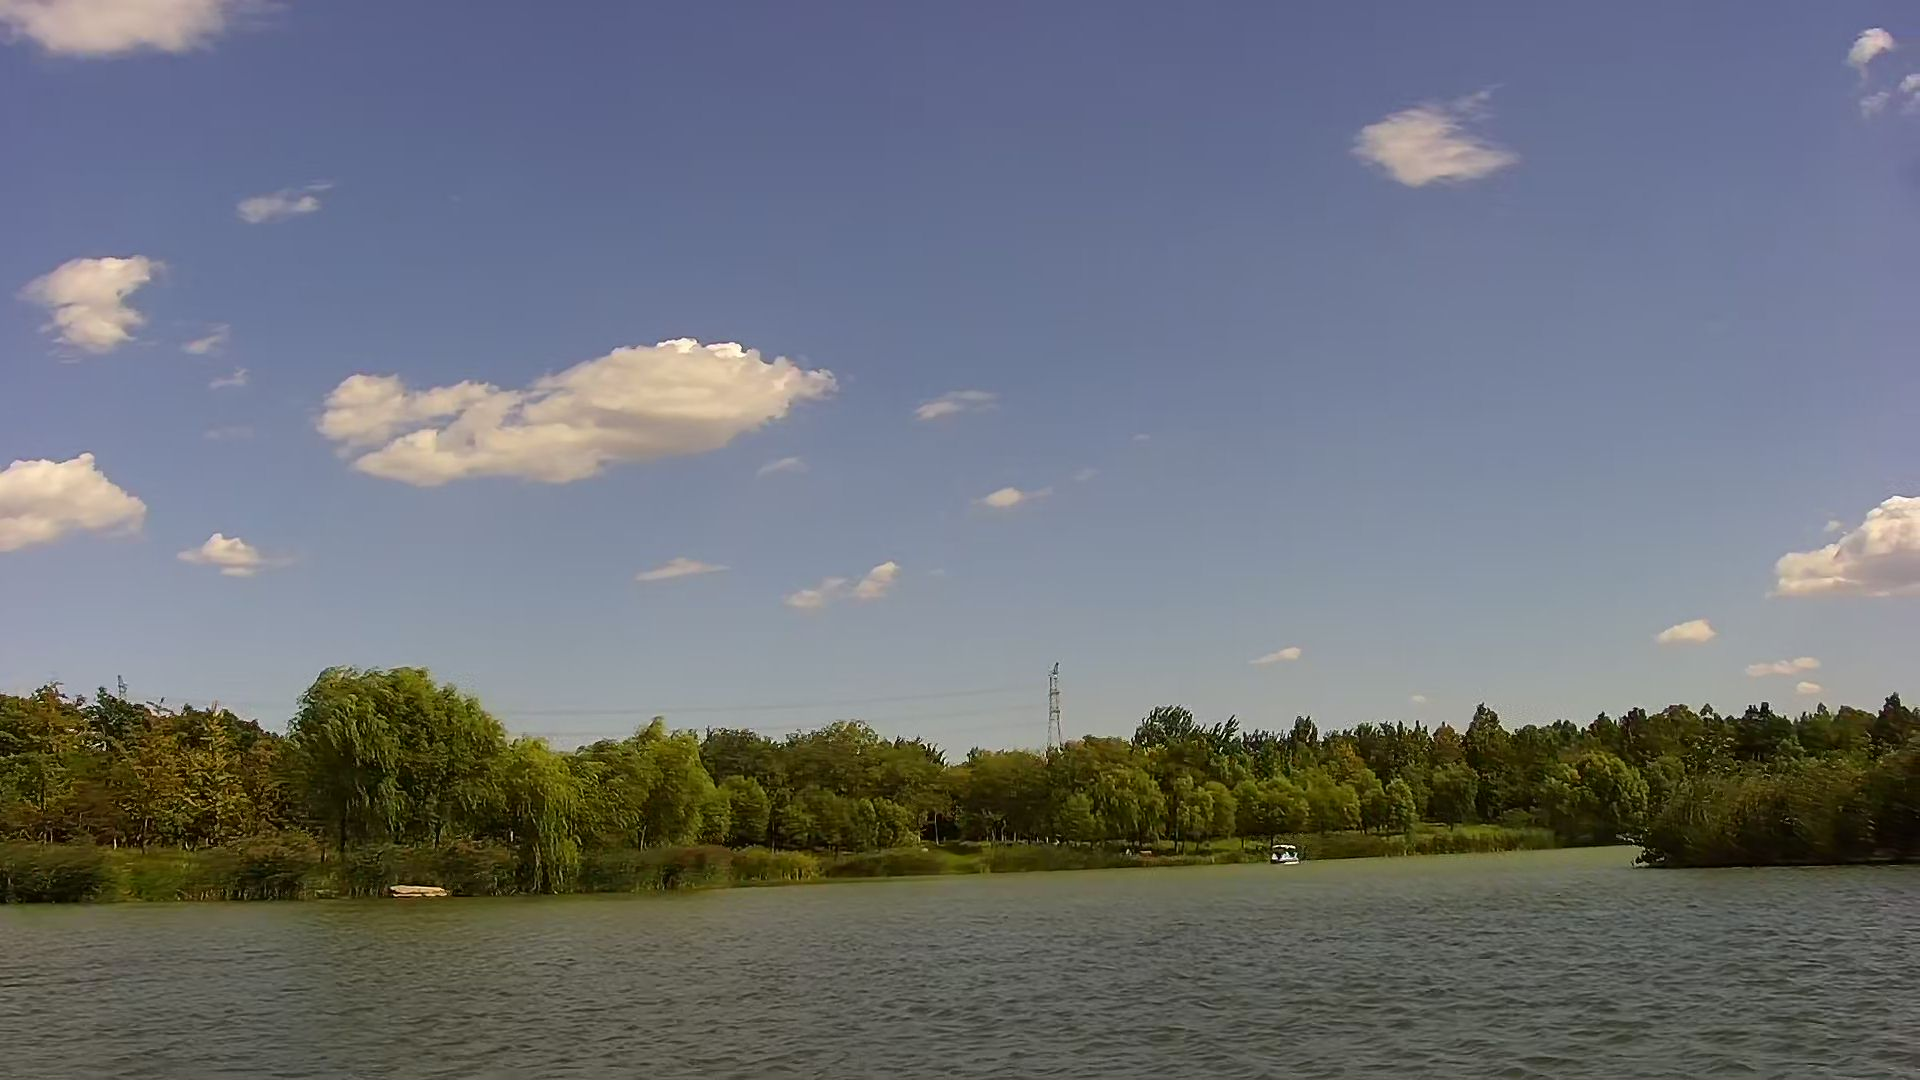boat: (1273, 837, 1294, 864)
rock: (389, 884, 447, 899)
